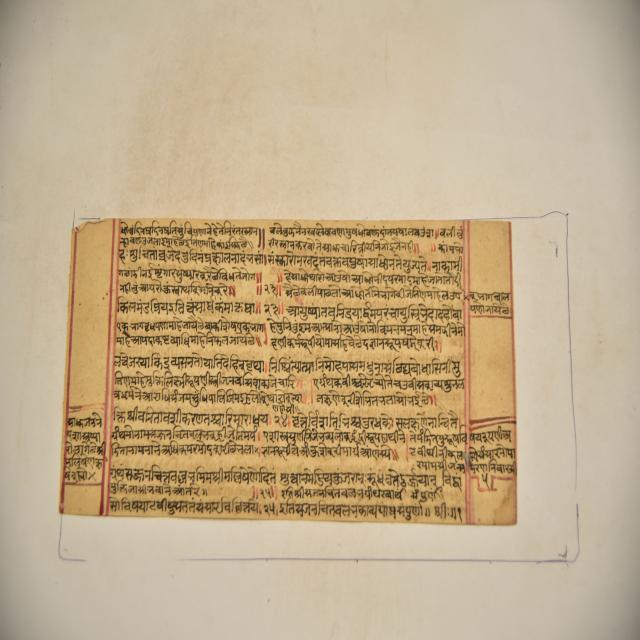text_paragraph: (56, 218, 515, 525)
